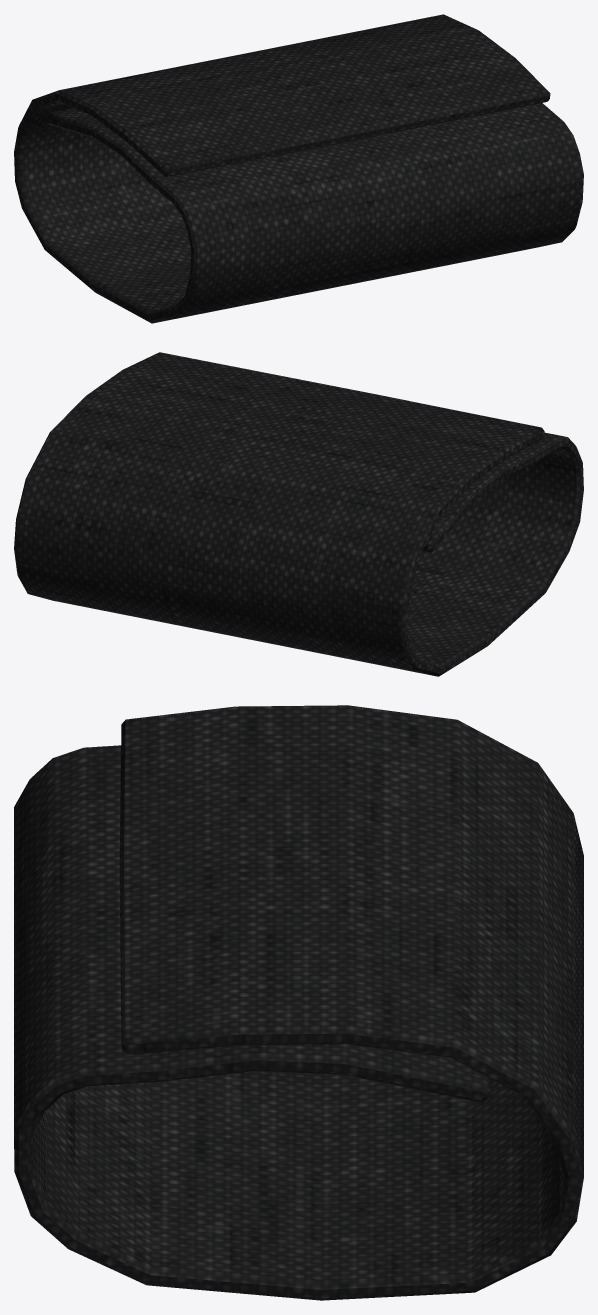
The model's file is folded-cuff.glb.
3 renders of one model, top to bottom at view 1: azimuth 30°, elevation 25°; view 2: azimuth 150°, elevation 25°; view 3: azimuth 270°, elevation 25°, orthographic. The views are drawn at different scales.
Parts seen in each view (by area): view 1: folded-cuff; view 2: folded-cuff; view 3: folded-cuff.
Boxes of the visible parts, x1=… form: folded-cuff: x1=14, y1=14, x2=583, y2=323; folded-cuff: x1=14, y1=352, x2=583, y2=676; folded-cuff: x1=14, y1=705, x2=583, y2=1300.
Size of the model in its own units: 0.0824 by 0.0389 by 0.0654.
1 material, 1 textured.
